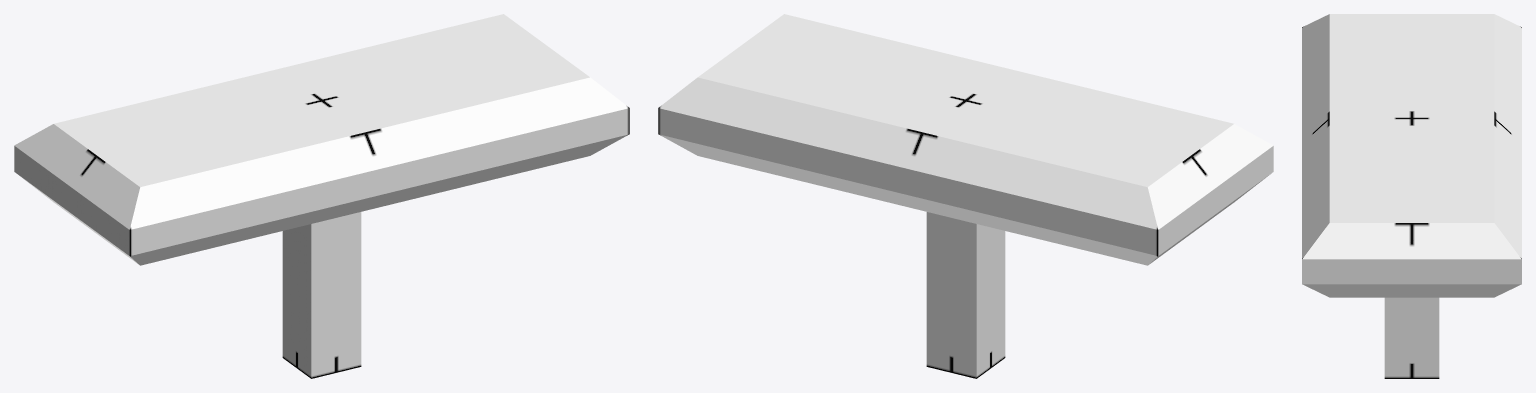
Rendered from table.obj.
3 views of the same model, side by side, from view 1: azimuth 30°, elevation 25°; view 2: azimuth 150°, elevation 25°; view 3: azimuth 270°, elevation 25° (orthographic). The views are drawn at different scales.
Parts seen in each view (by area): view 1: Cube; view 2: Cube; view 3: Cube.
Boxes of the visible parts, x1,y1,x2,y2 form: Cube: (14, 14, 629, 378); Cube: (658, 14, 1273, 378); Cube: (1302, 14, 1521, 378).
Bounding box in the file's own units: 2 × 1 × 0.8.
1 material, 1 textured.
